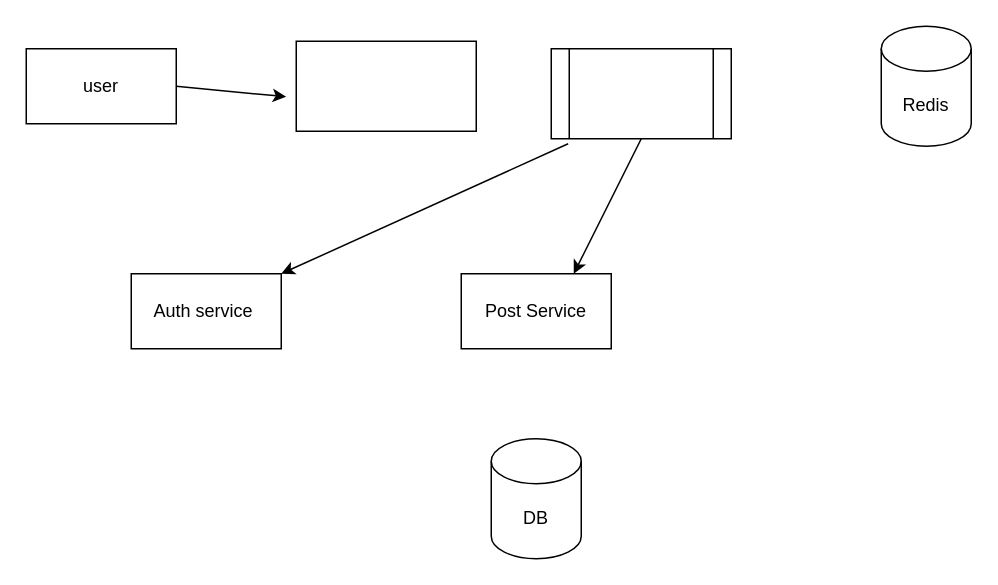
The diagram is 998 pixels wide and 585 high, and some of its shapes have lost their labels. The shapes that lost their labels are listed below. From the top down, each one's box as (x1, y1, x2, y2) in pixels, then its label:
(295, 40, 476, 131): Load Balancer
(550, 47, 731, 139): API Gate way
